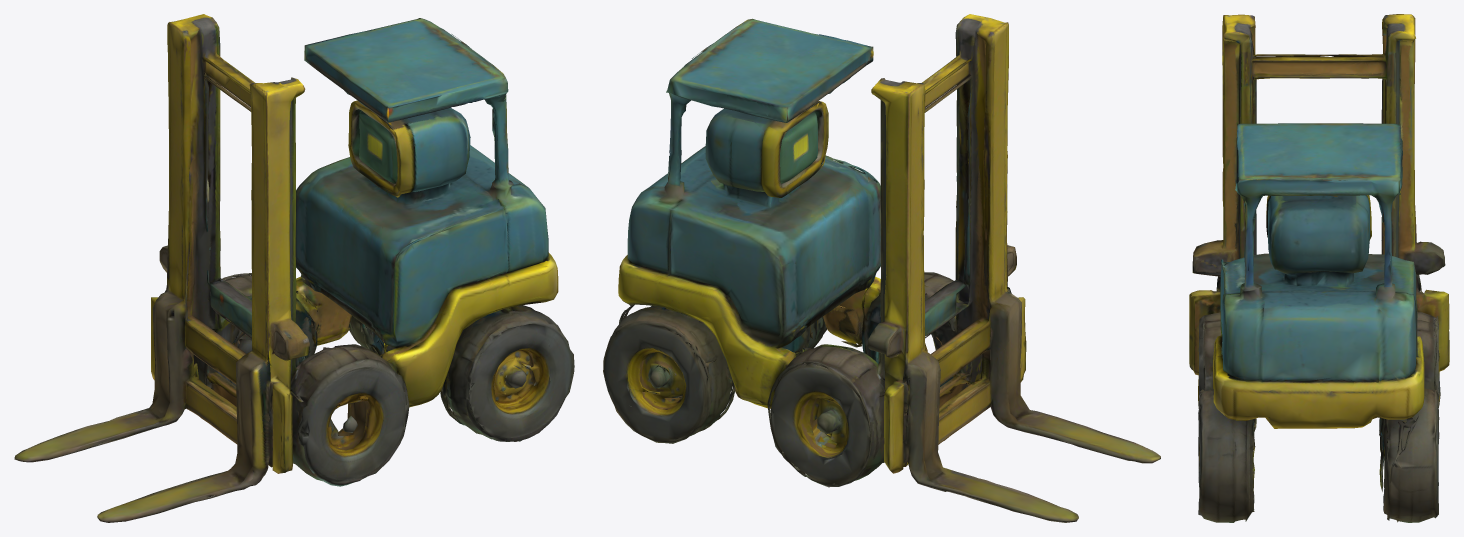
Rendered from Forklift_Bot_0404141540_texture.glb.
3 views of the same model, side by side, from view 1: azimuth 30°, elevation 25°; view 2: azimuth 150°, elevation 25°; view 3: azimuth 270°, elevation 25° (orthographic). The views are drawn at different scales.
Size of the model in its own units: 2 by 1.67 by 1.01.
Materials: 1 (1 with a texture image).
